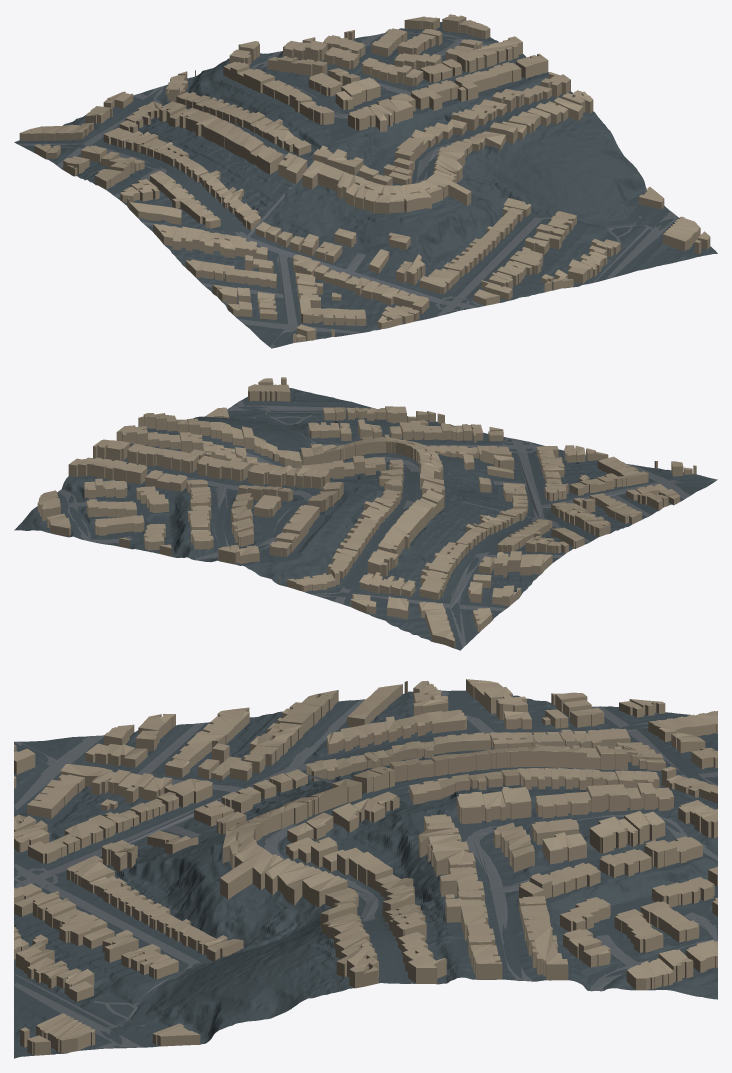
File: epsg26910-1440-10876.lod0.glb
3 views of the same model, one above another, from view 1: azimuth 30°, elevation 25°; view 2: azimuth 150°, elevation 25°; view 3: azimuth 270°, elevation 25° (orthographic). The views are drawn at different scales.
Visible parts, largest first — view 1: epsg26910-1440-10876-lod0; view 2: epsg26910-1440-10876-lod0; view 3: epsg26910-1440-10876-lod0.
Part boxes in pixels (x1=…): epsg26910-1440-10876-lod0: x1=14, y1=14, x2=717, y2=348; epsg26910-1440-10876-lod0: x1=14, y1=377, x2=717, y2=650; epsg26910-1440-10876-lod0: x1=14, y1=679, x2=717, y2=1058.
Size of the model in its own units: 384 by 66.89 by 384.
